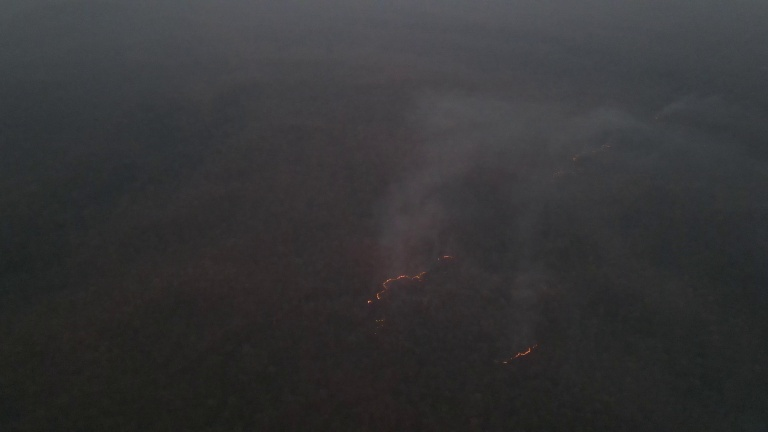fire: (366, 271, 428, 321), (497, 340, 540, 370), (429, 251, 453, 262)
smoke: (367, 96, 543, 268)
